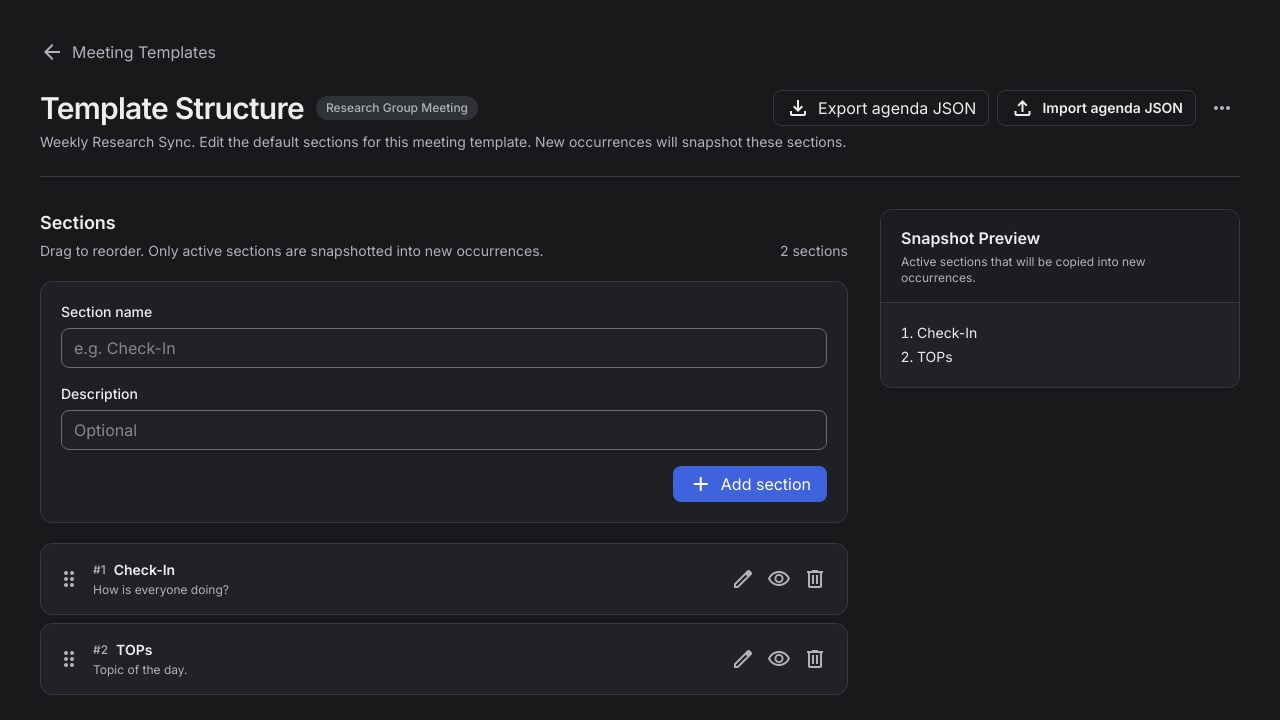
Test: MeetingSeriesDetailPage section deletion › requires explicit confirmation, names the section, and explains the effect
Expected: the heading "Template Structure" is shown, [40, 90, 304, 126]
Click the button named "Delete section TOPs". click: click(815, 659)
box: [799, 643, 831, 675]
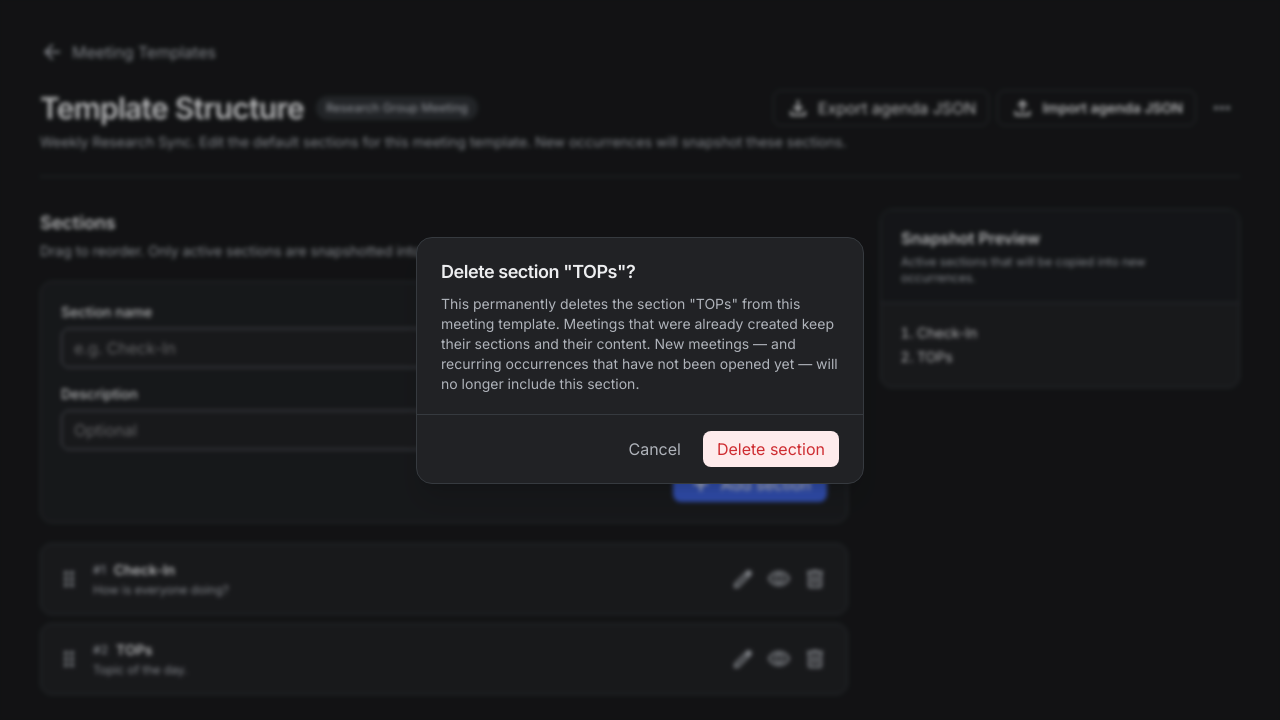
Expected: the heading "Delete section \"TOPs\"?" is shown, [441, 260, 635, 282]
Expected: the text "already created keep their sections" is shown, [441, 294, 838, 392]
Expected: the text "will no longer include this section" is shown, [441, 294, 838, 392]
